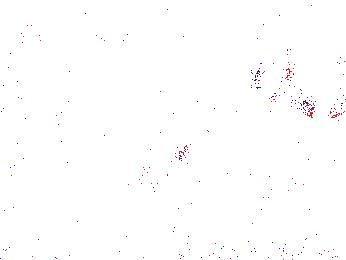flame jellyfish: (247, 59, 316, 117), (154, 171, 213, 228), (139, 144, 190, 203)
